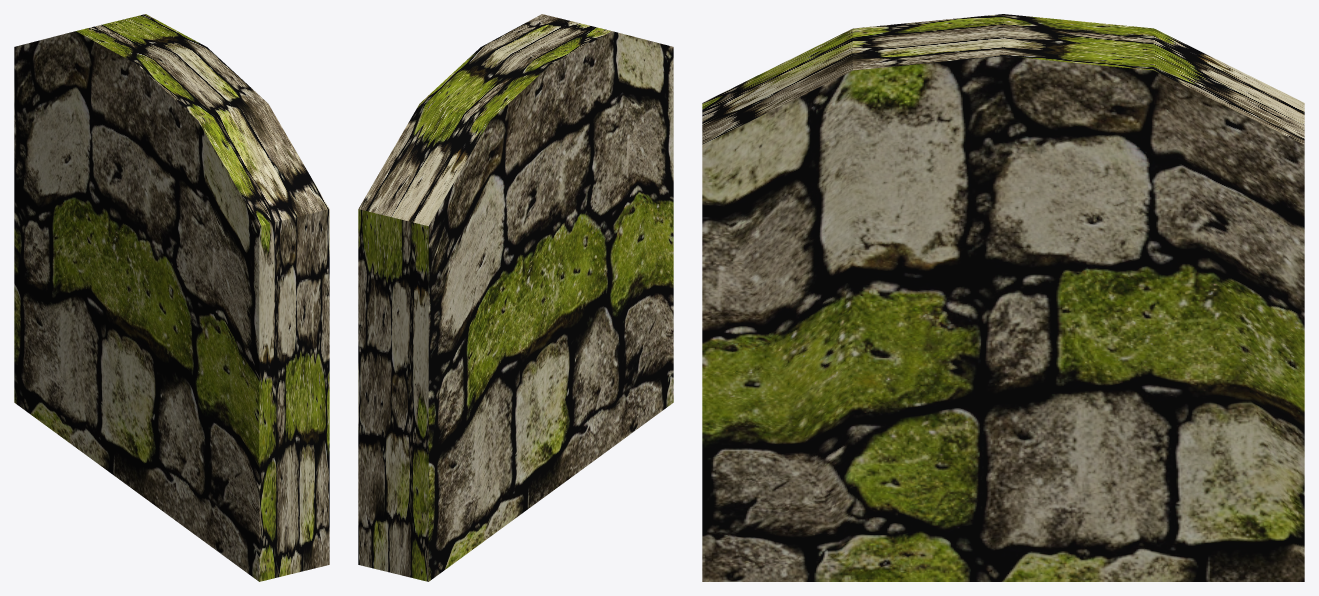
Rendered from sewerWall3.fbx.
The picture shows the model from 3 angles, left to right: view 1: azimuth 30°, elevation 25°; view 2: azimuth 150°, elevation 25°; view 3: azimuth 270°, elevation 25°; orthographic projection. The views are drawn at different scales.
Visible parts, largest first — view 1: Cube.014; view 2: Cube.014; view 3: Cube.014.
Boxes of the visible parts, x1,y1,x2,y2 form: Cube.014: [14, 14, 329, 581]; Cube.014: [358, 14, 673, 581]; Cube.014: [702, 14, 1304, 581].
Size of the model in its own units: 67.49 by 393 by 408.
